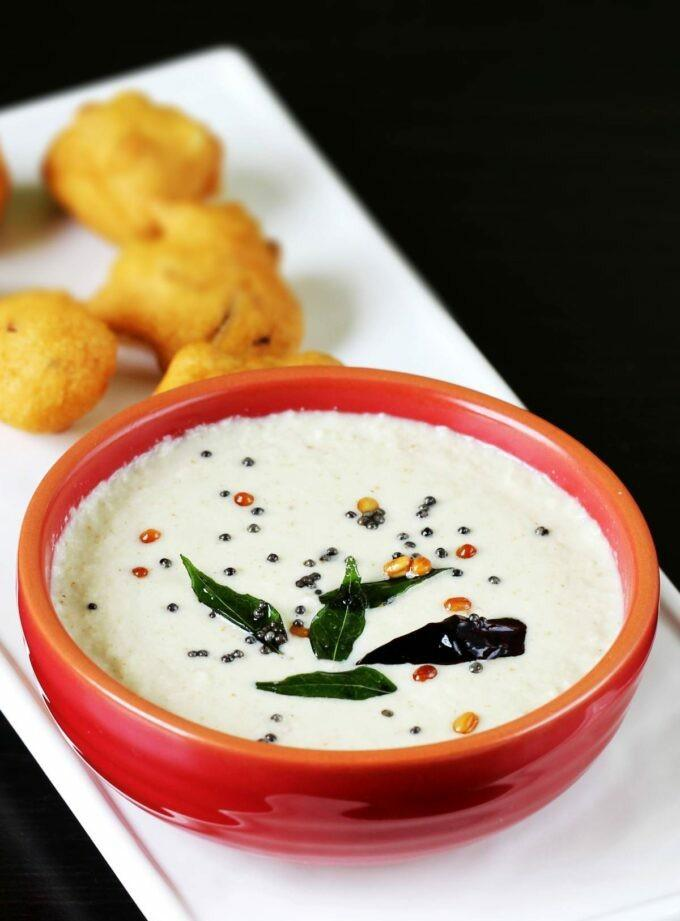CoconutChutney: (56, 416, 627, 750)
